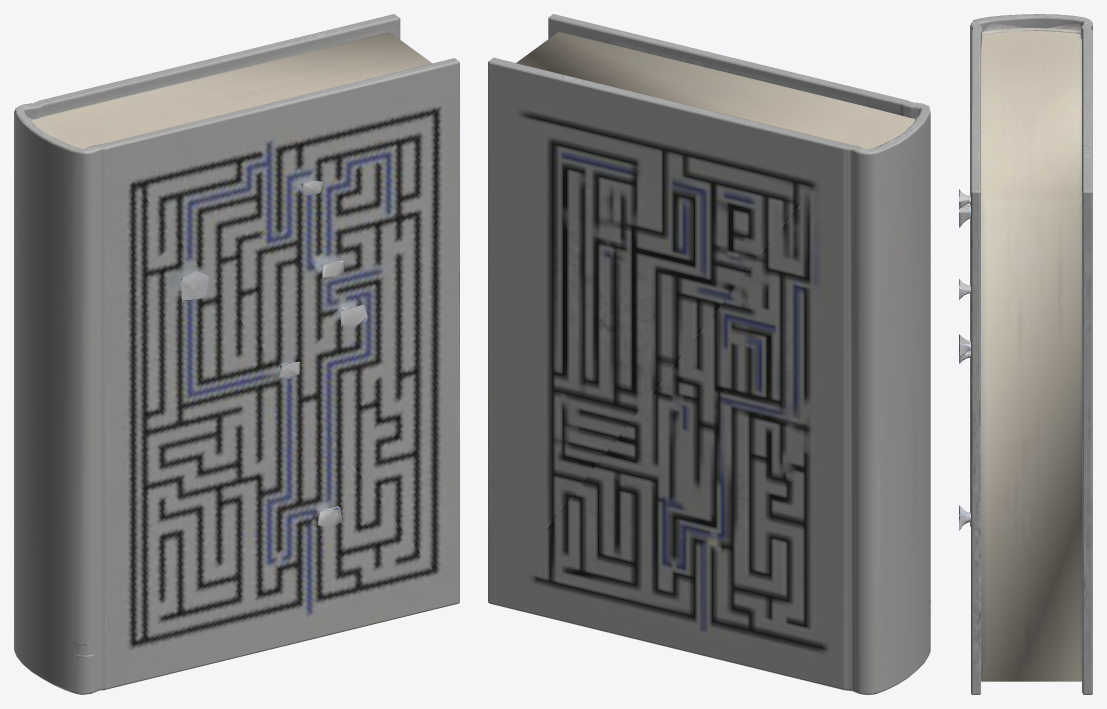
The model's file is an-elegant-puzzle.glb.
The picture shows the model from 3 angles, left to right: view 1: azimuth 30°, elevation 25°; view 2: azimuth 150°, elevation 25°; view 3: azimuth 270°, elevation 25°; orthographic projection. The views are drawn at different scales.
Visible parts, largest first — view 1: An Elegant Puzzle; view 2: An Elegant Puzzle; view 3: An Elegant Puzzle.
Boxes of the visible parts, x1,y1,x2,y2 form: An Elegant Puzzle: [14, 14, 459, 694]; An Elegant Puzzle: [488, 14, 930, 694]; An Elegant Puzzle: [959, 14, 1092, 694].
Size of the model in its own units: 0.7559 by 0.998 by 0.2402.
Materials: 1 (1 with a texture image).
